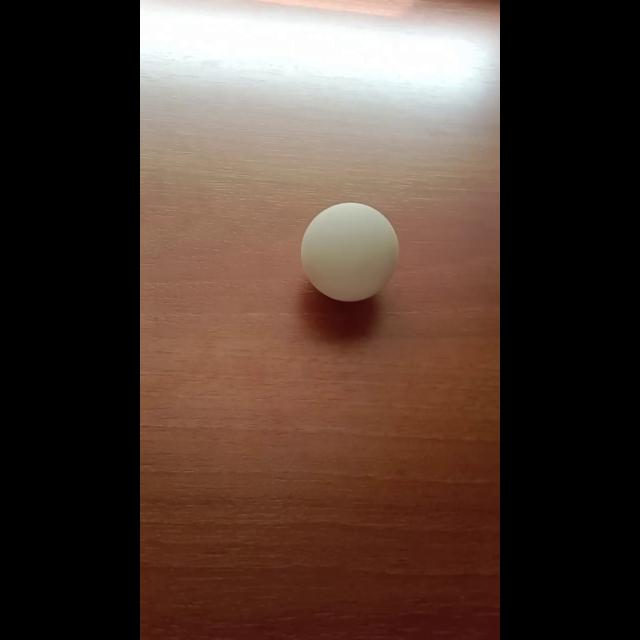white ball: (300, 201, 400, 303)
